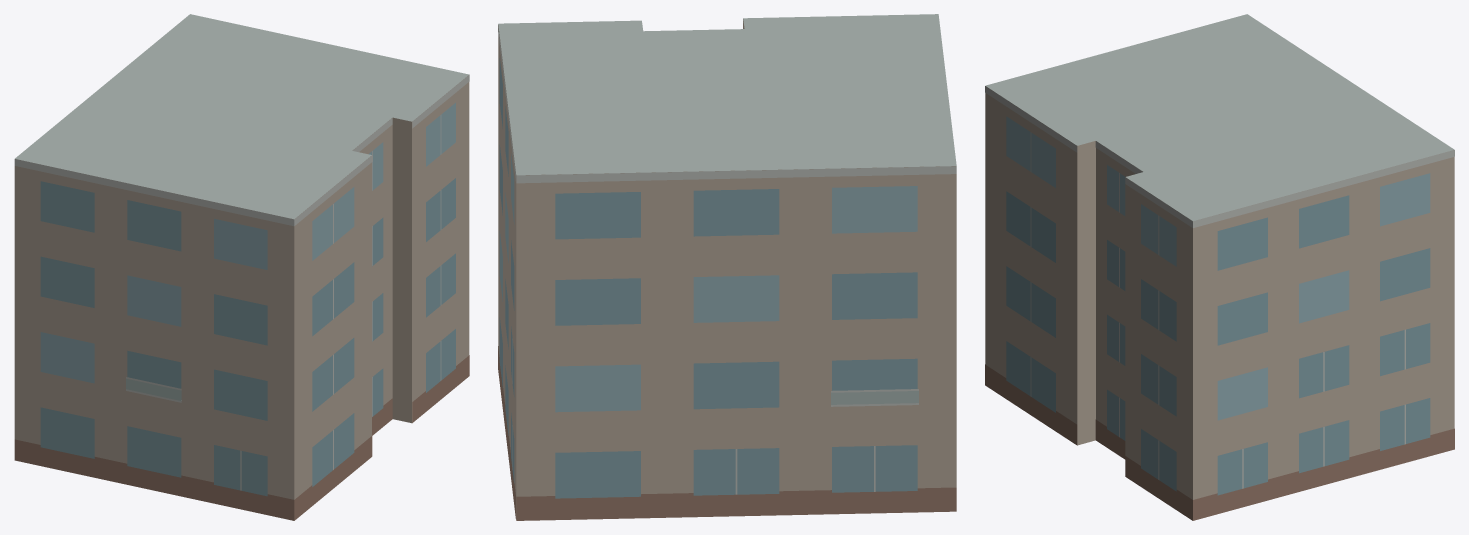
File: residential-164e5e06-4e74-4ef8-a1fa-0919418d11c6.glb
The picture shows the model from 3 angles, left to right: view 1: azimuth 30°, elevation 25°; view 2: azimuth 150°, elevation 25°; view 3: azimuth 270°, elevation 25°; orthographic projection. The views are drawn at different scales.
Parts seen in each view (by area): view 1: residential-164e5e06-4e74-4ef8-a1fa-0919418d11c6.tmp; view 2: residential-164e5e06-4e74-4ef8-a1fa-0919418d11c6.tmp; view 3: residential-164e5e06-4e74-4ef8-a1fa-0919418d11c6.tmp.
Boxes of the visible parts, x1,y1,x2,y2 form: residential-164e5e06-4e74-4ef8-a1fa-0919418d11c6.tmp: [14, 14, 469, 520]; residential-164e5e06-4e74-4ef8-a1fa-0919418d11c6.tmp: [498, 14, 956, 520]; residential-164e5e06-4e74-4ef8-a1fa-0919418d11c6.tmp: [985, 14, 1454, 520].
Bounding box in the file's own units: 15.58 × 10.5 × 14.93.
